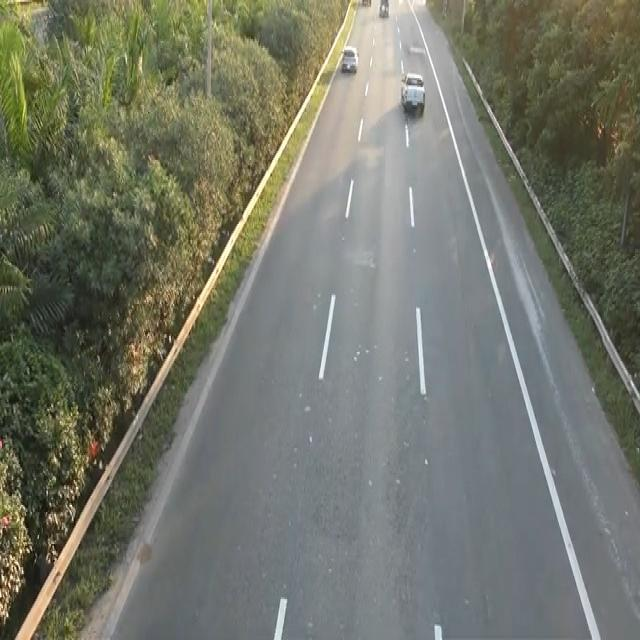bus: (340, 43, 359, 73)
car: (398, 67, 429, 121)
